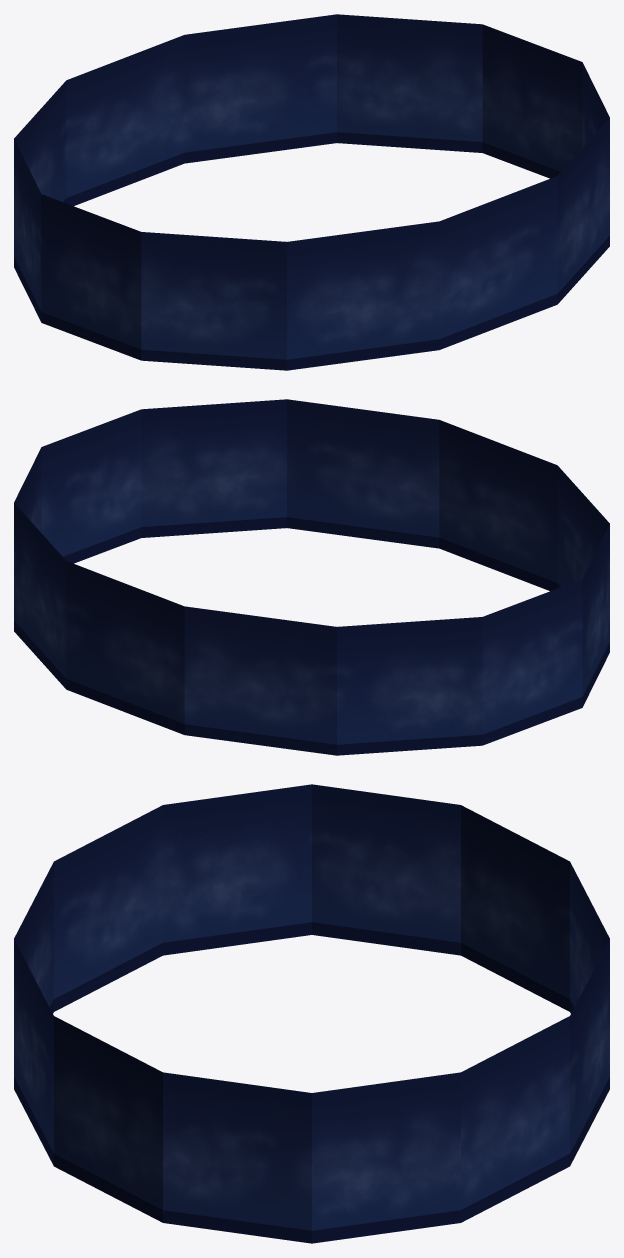
Rendered from skyboxpart.obj.
3 views of the same model, one above another, from view 1: azimuth 30°, elevation 25°; view 2: azimuth 150°, elevation 25°; view 3: azimuth 270°, elevation 25° (orthographic). The views are drawn at different scales.
Visible parts, largest first — view 1: pCylinder1; view 2: pCylinder1; view 3: pCylinder1.
Boxes of the visible parts, <box> form: pCylinder1: <box>14,14,609,370</box>; pCylinder1: <box>14,399,609,755</box>; pCylinder1: <box>14,784,609,1243</box>.
Bounding box in the file's own units: 210 × 47.84 × 172.
1 material, 1 textured.
